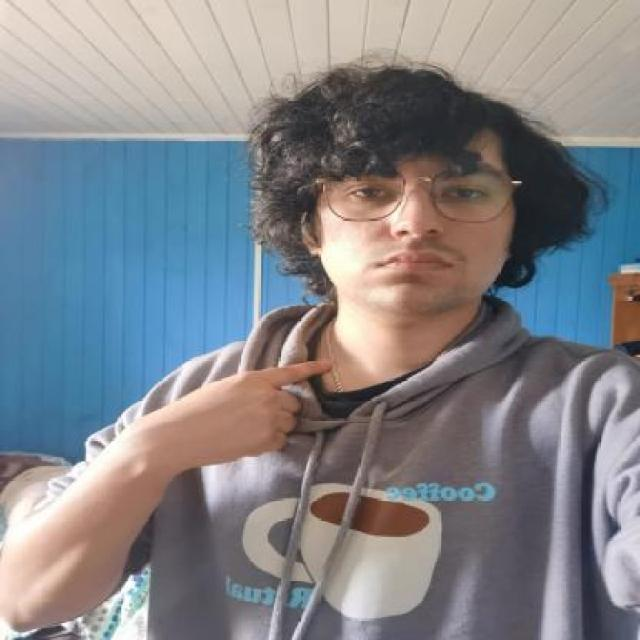Q: (148, 357, 337, 461)
